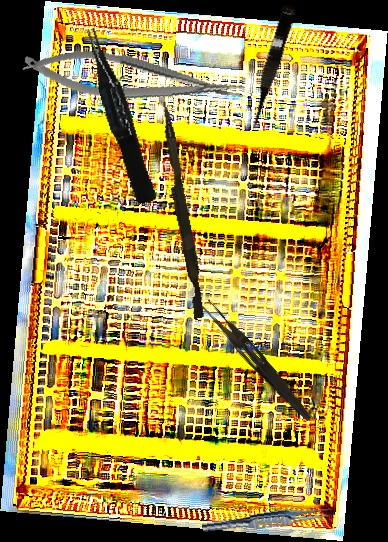Dressing Forceps: (197, 298, 318, 424)
Micro Scissor: (243, 2, 298, 133)
Needle Holder: (19, 37, 247, 122)
Pusher: (152, 100, 211, 320)
Tissue Forceps: (82, 23, 158, 207), (201, 501, 335, 539)
